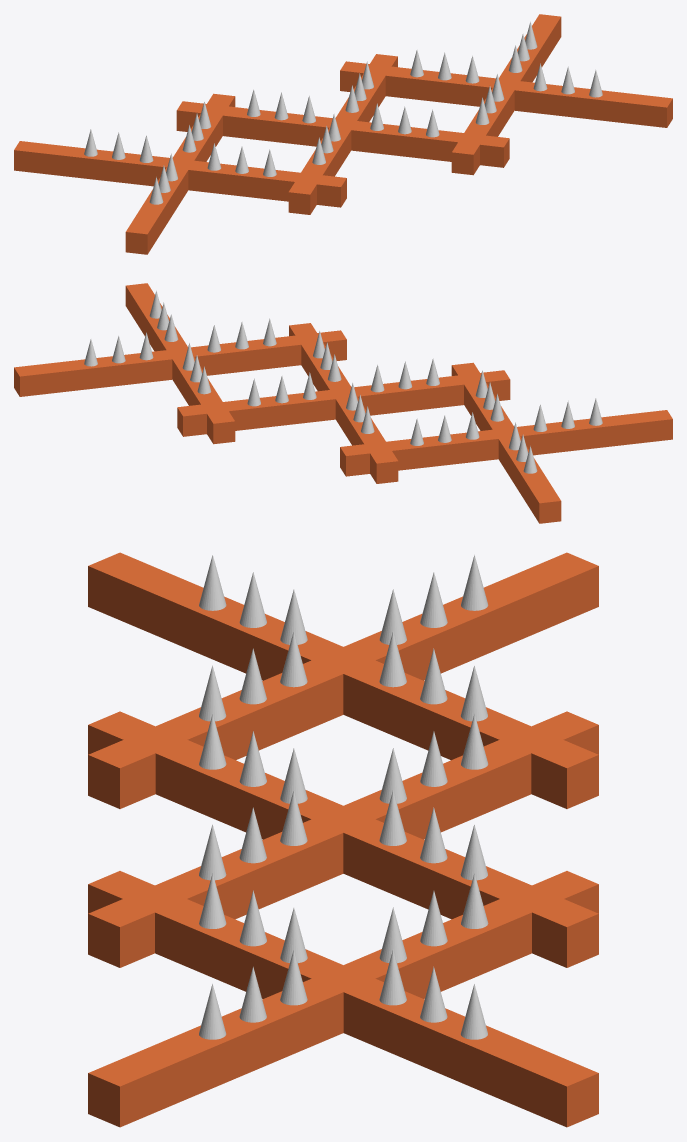
The model's file is item01.fbx.
3 views of the same model, one above another, from view 1: azimuth 30°, elevation 25°; view 2: azimuth 150°, elevation 25°; view 3: azimuth 270°, elevation 25° (orthographic). The views are drawn at different scales.
Parts seen in each view (by area): view 1: 立方体, 锥体; view 2: 立方体, 锥体; view 3: 立方体, 锥体.
Part boxes in pixels (x1,y1,x2,y2): 立方体: [14, 14, 672, 254]; 锥体: [84, 21, 602, 204]; 立方体: [14, 283, 672, 523]; 锥体: [84, 290, 602, 473]; 立方体: [88, 552, 598, 1127]; 锥体: [199, 555, 488, 1039].
Bounding box in the file's own units: 560 × 44.77 × 226.
